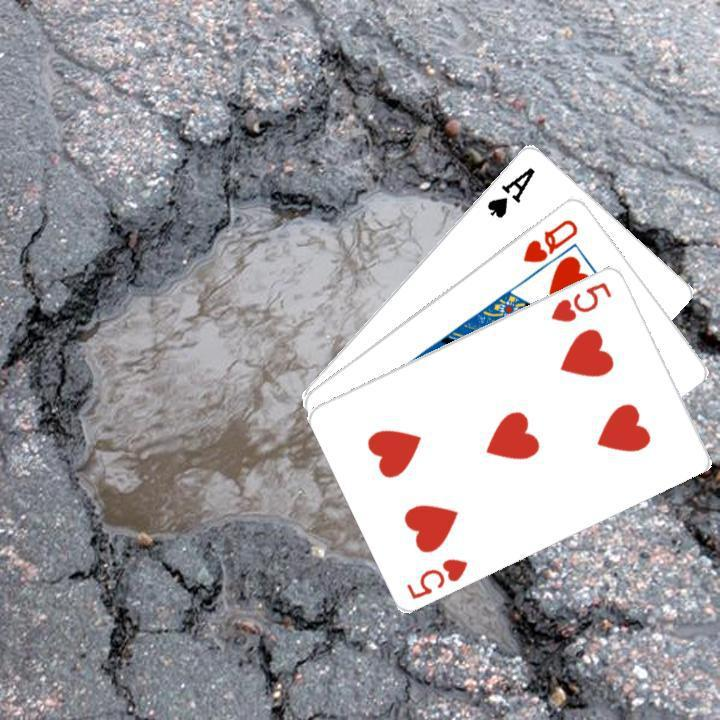5: (402, 553, 470, 601), (546, 277, 614, 324)
A: (482, 162, 537, 220)
Q: (518, 214, 580, 265)
